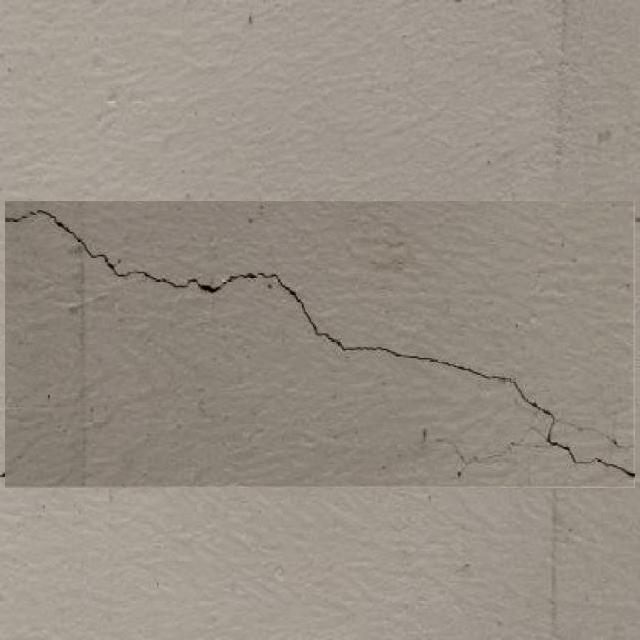Crack: (6, 205, 636, 480)
